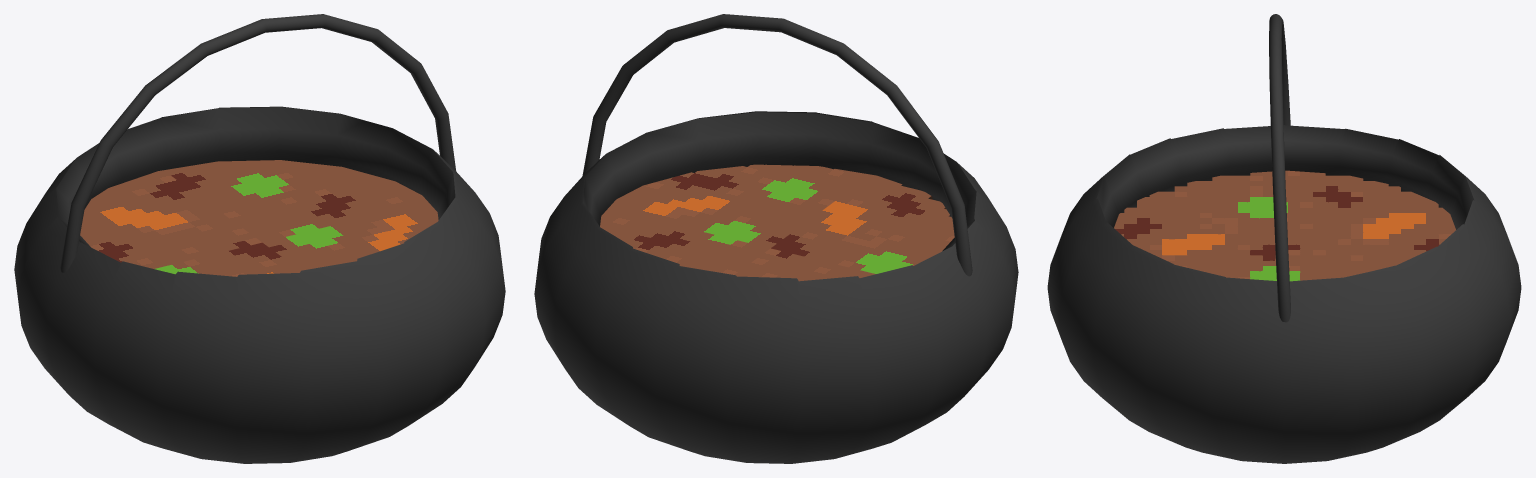
File: stewPot.fbx
3 views of the same model, side by side, from view 1: azimuth 30°, elevation 25°; view 2: azimuth 150°, elevation 25°; view 3: azimuth 270°, elevation 25° (orthographic). The views are drawn at different scales.
Parts seen in each view (by area): view 1: Pot, Stew, PotHandle; view 2: Pot, Stew, PotHandle; view 3: Pot, Stew, PotHandle.
Boxes of the visible parts, x1,y1,x2,y2 form: Pot: [14, 106, 505, 463]; Stew: [80, 160, 438, 276]; PotHandle: [60, 14, 455, 272]; Pot: [534, 111, 1018, 463]; Stew: [600, 164, 954, 281]; PotHandle: [582, 14, 972, 276]; Pot: [1047, 125, 1521, 463]; Stew: [1114, 170, 1455, 281]; PotHandle: [1269, 14, 1290, 322].
Bounding box in the file's own units: 1012 × 941 × 1012.
Materials: 2 (1 with a texture image).
